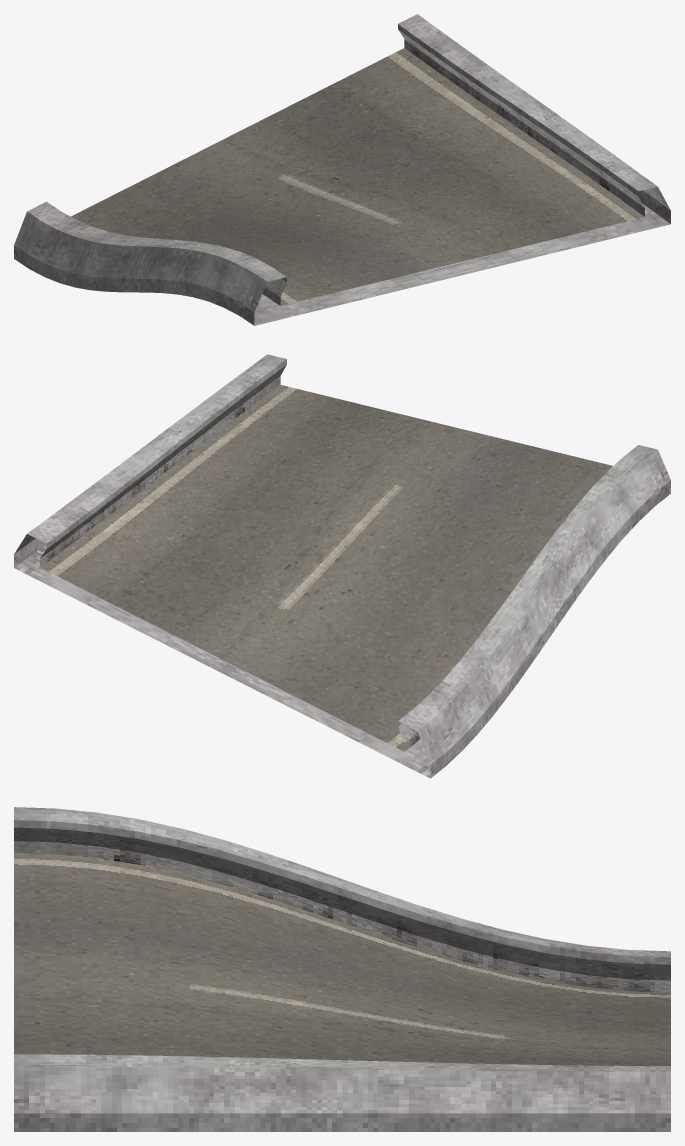
The model's file is road-Straight-Flat-HalfBankedLeft-Down1-Center-Size1.glb.
3 views of the same model, one above another, from view 1: azimuth 30°, elevation 25°; view 2: azimuth 150°, elevation 25°; view 3: azimuth 270°, elevation 25° (orthographic). The views are drawn at different scales.
Parts seen in each view (by area): view 1: road-Straight-Flat-HalfBankedLeft-Down1-Center-Size1; view 2: road-Straight-Flat-HalfBankedLeft-Down1-Center-Size1; view 3: road-Straight-Flat-HalfBankedLeft-Down1-Center-Size1.
Boxes of the visible parts, <box> form: road-Straight-Flat-HalfBankedLeft-Down1-Center-Size1: <box>14,14,670,325</box>; road-Straight-Flat-HalfBankedLeft-Down1-Center-Size1: <box>14,354,670,778</box>; road-Straight-Flat-HalfBankedLeft-Down1-Center-Size1: <box>14,807,670,1131</box>.
Size of the model in its own units: 1 by 0.3438 by 1.
2 materials, 2 textured.
